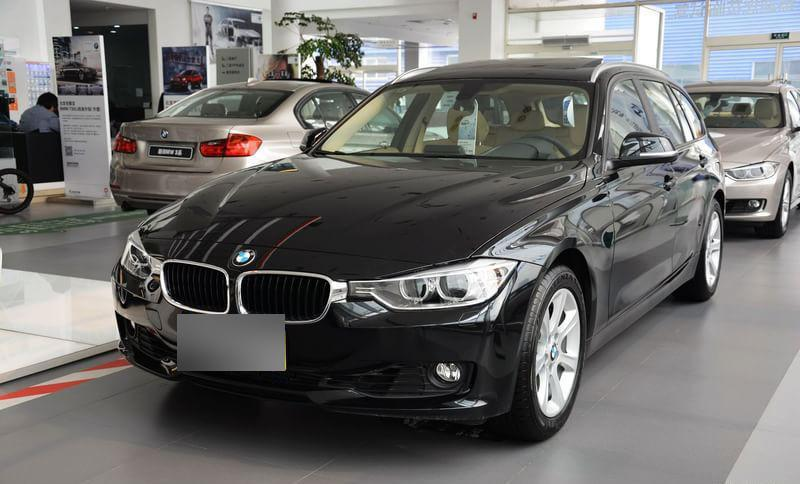Wagon: (109, 55, 727, 443)
